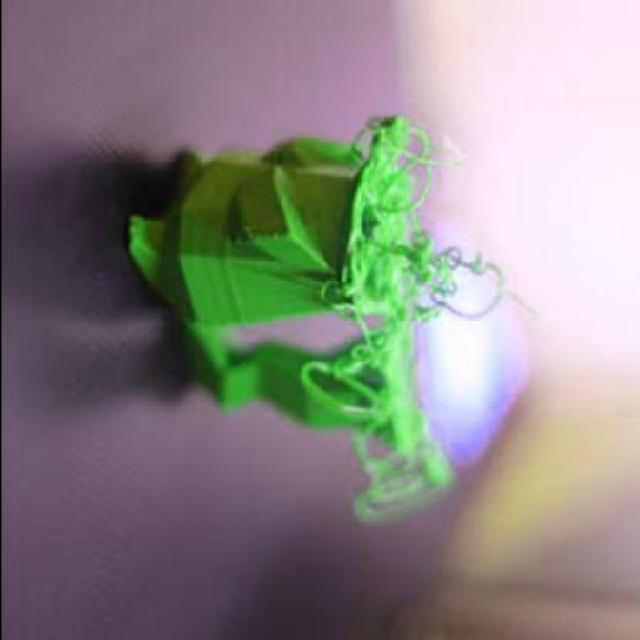spaghetti: (312, 104, 540, 330)
